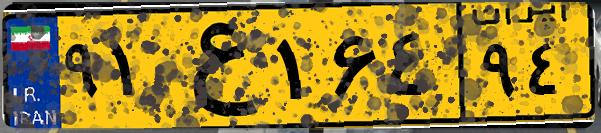1: (270, 28, 330, 110), (110, 28, 158, 98)
4: (385, 28, 445, 110), (525, 38, 570, 115)
6: (330, 28, 385, 110)
9: (57, 26, 110, 100), (475, 38, 525, 113)
ع: (158, 12, 270, 120)
